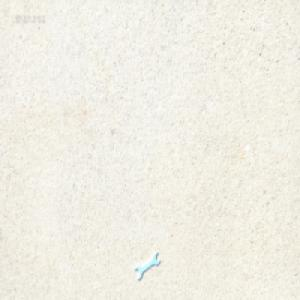Wrench: (134, 251, 159, 280)
